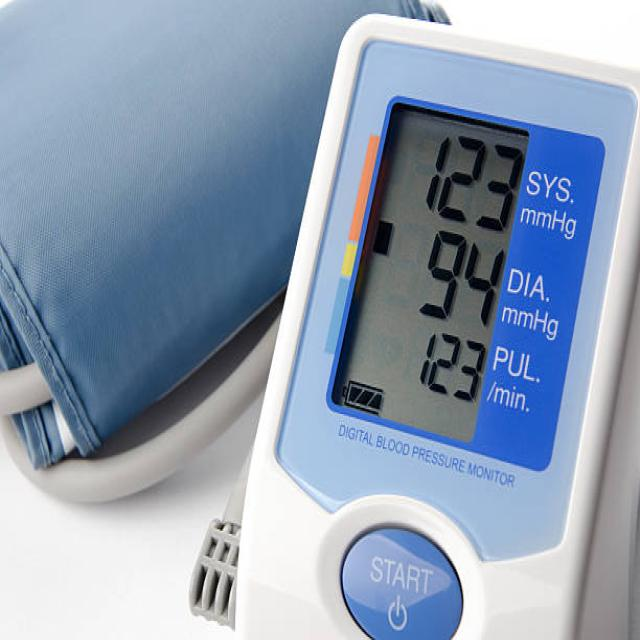dia: (409, 221, 509, 332)
pul: (403, 322, 496, 414)
ssd: (325, 103, 538, 441)
sys: (415, 128, 528, 240)
